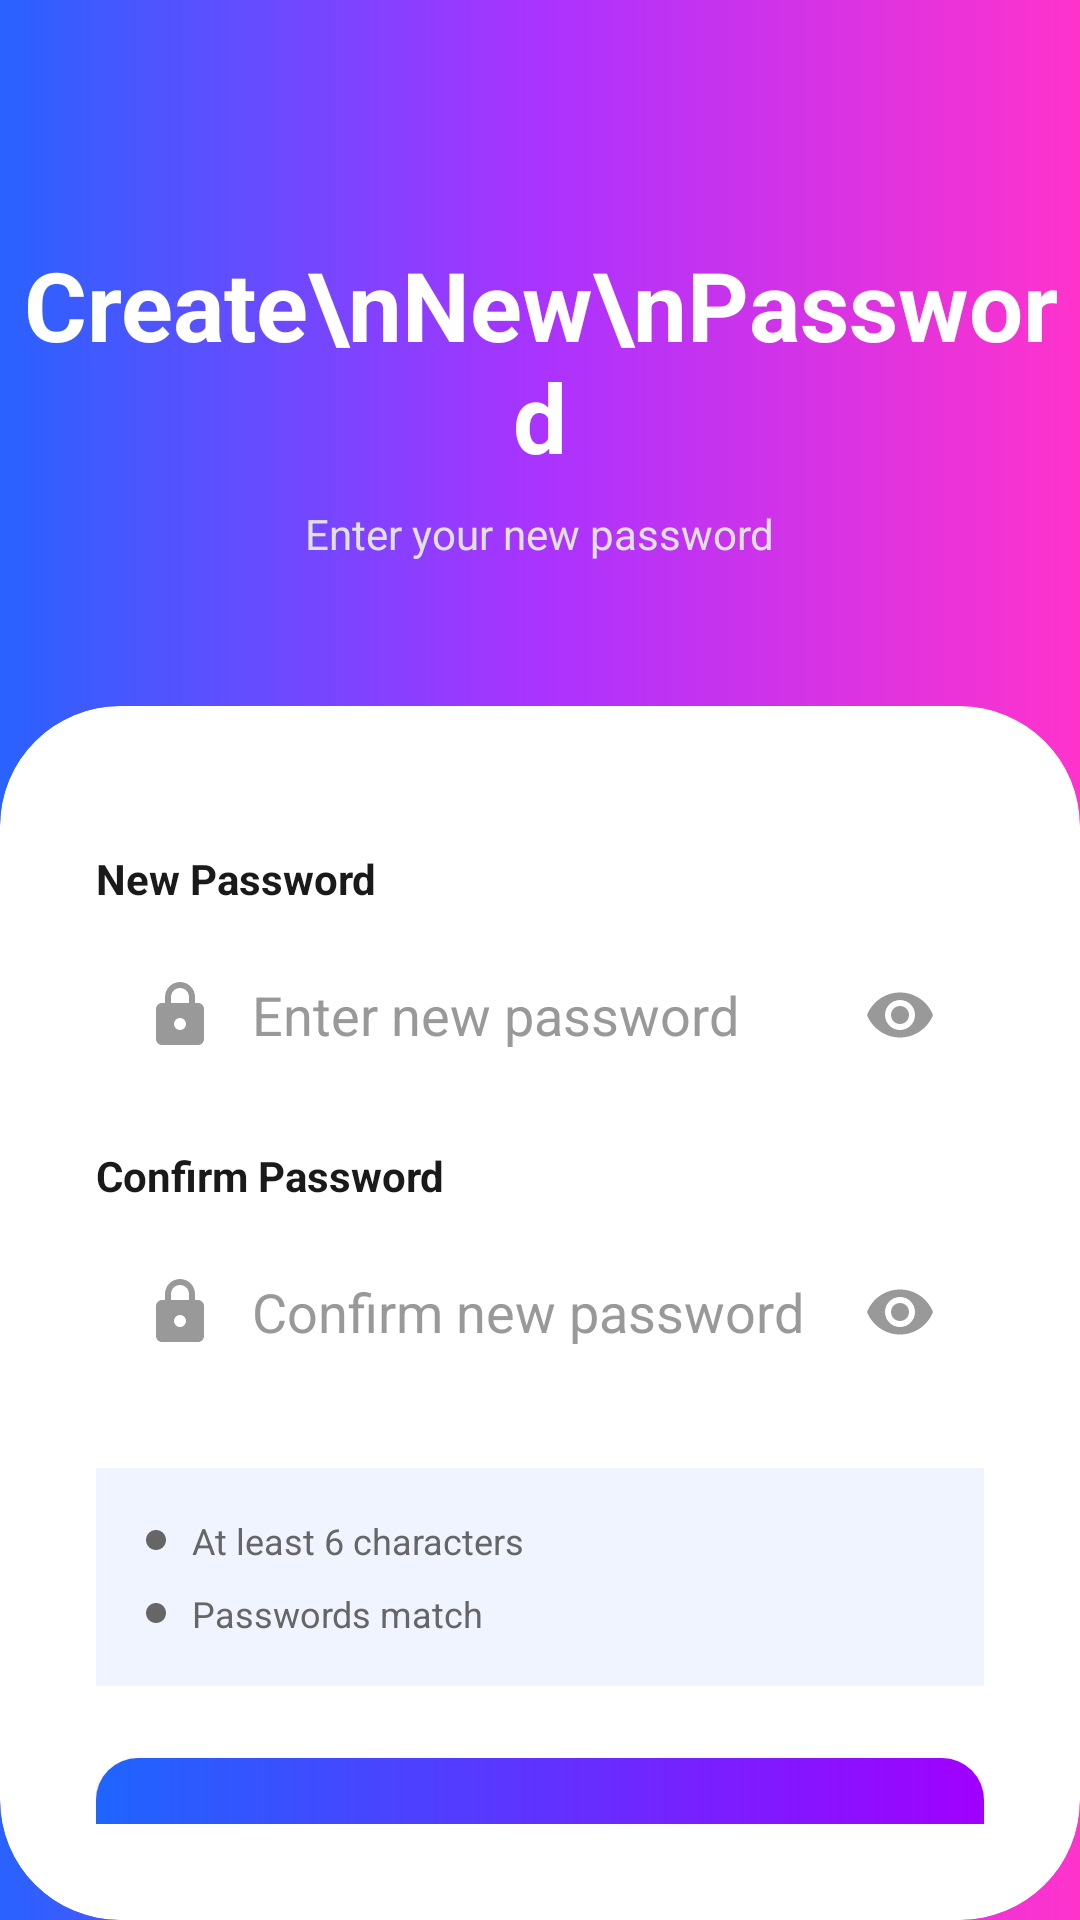

Screen size 1080 × 1920. Icon name, then its box in pixels as rect(x1, y1, x2, y2):
eye: rect(867, 992, 933, 1038), rect(867, 1289, 933, 1335)
